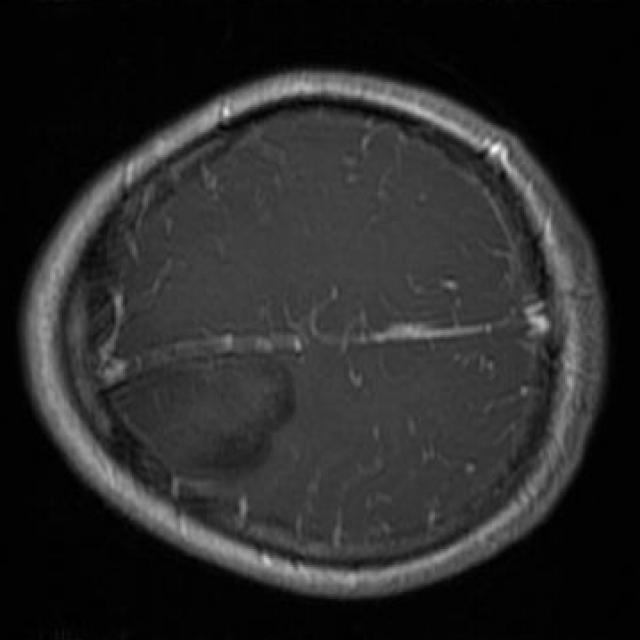glioma: (107, 355, 296, 474)
